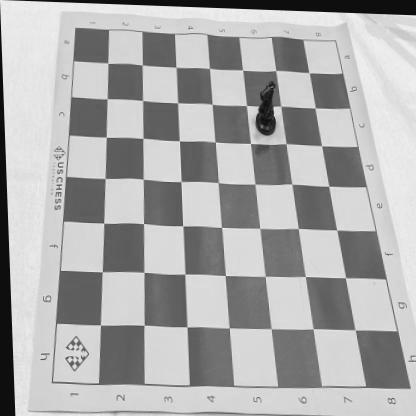black-knight: (254, 77, 278, 134)
